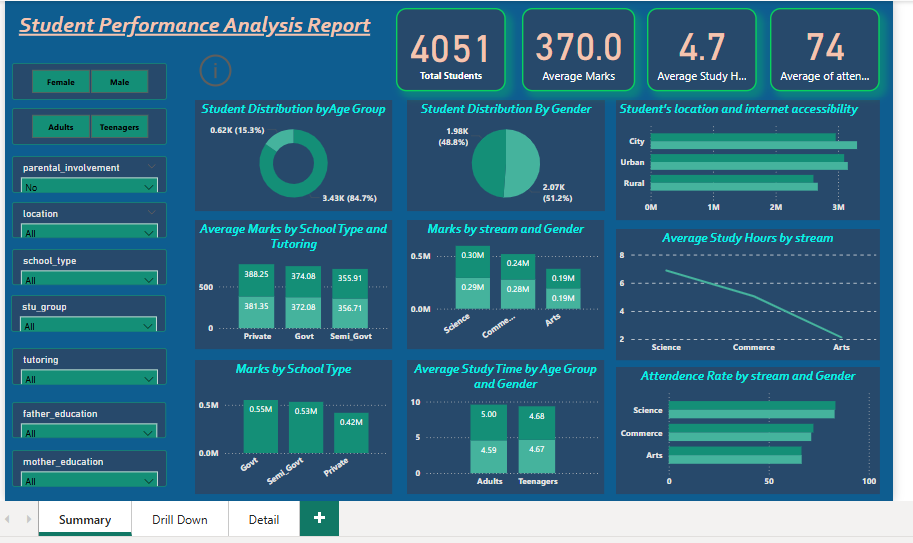

This screenshot's page, from the dashboard's own definition file:
{"tool":"powerbi","page":{"name":"Summary","canvas":[1280,720],"ordinal":0},"visuals":[{"type":"pieChart","title":"Student Distribution By Gender","fields":{"Category":["bd_students_per.gender"],"Y":["CountNonNull(bd_students_per.id)"]},"box":[578.9,142.6,285.1,159.8],"z":0},{"type":"columnChart","title":"Marks by stream and Gender","fields":{"Category":["bd_students_per.stu_group"],"Y":["Sum(bd_students_per.TotalMarks)"],"Series":["bd_students_per.gender"]},"box":[578.9,315.4,283.7,185.8],"z":1000},{"type":"donutChart","title":"Student Distribution byAge Group","fields":{"Category":["bd_students_per.Age Group"],"Y":["CountNonNull(bd_students_per.id)"]},"box":[273.6,142.6,283.7,159.8],"z":2000},{"type":"clusteredBarChart","title":"Attendence Rate by stream and Gender","fields":{"Category":["bd_students_per.stu_group"],"Series":["bd_students_per.gender"],"Y":["Avg(bd_students_per.attendance)"]},"box":[879.8,527,380.2,182.9],"z":3000},{"type":"columnChart","title":"Average Study Time by Age Group and Gender","fields":{"Category":["bd_students_per.Age Group"],"Y":["Avg(bd_students_per.studytime)"],"Series":["bd_students_per.gender"]},"box":[578.9,517,283.7,193],"z":4000},{"type":"columnChart","title":"Marks by School Type","fields":{"Y":["Sum(bd_students_per.TotalMarks)"],"Category":["bd_students_per.school_type"]},"box":[273.6,517,283.7,193],"z":5000},{"type":"lineChart","title":"Average Study Hours by stream","fields":{"Y":["bd_students_per.Avgstudyhours"],"Category":["bd_students_per.stu_group"]},"box":[879.8,328.3,380.2,188.6],"z":6000},{"type":"card","fields":{"Values":["CountNonNull(bd_students_per.id)"]},"box":[563,10.1,158.4,119.5],"z":7000},{"type":"clusteredBarChart","title":"Student''s location and internet accessibility","fields":{"Series":["bd_students_per.internet_access"],"Y":["Sum(bd_students_per.id)"],"Category":["bd_students_per.location"]},"box":[879.8,142.6,380.2,172.8],"z":8000},{"type":"columnChart","title":"Average Marks by School Type and Tutoring","fields":{"Y":["Avg(bd_students_per.TotalMarks)"],"Category":["bd_students_per.school_type"],"Series":["bd_students_per.tutoring"]},"box":[273.6,315.4,283.7,185.8],"z":9000},{"type":"card","fields":{"Values":["Avg(bd_students_per.TotalMarks)"]},"box":[744.5,10.1,162.7,119.5],"z":10000},{"type":"card","fields":{"Values":["Avg(bd_students_per.studytime)"]},"box":[924.5,10.1,158.4,119.5],"z":11000},{"type":"slicer","fields":{"Values":["bd_students_per.tutoring"]},"box":[10.1,499.7,223.2,53.3],"z":12000},{"type":"slicer","fields":{"Values":["bd_students_per.gender"]},"box":[10.1,89.3,223.2,53.3],"z":13000},{"type":"slicer","fields":{"Values":["bd_students_per.location"]},"box":[10.1,289.4,223.2,51.8],"z":14000},{"type":"slicer","fields":{"Values":["bd_students_per.school_type"]},"box":[10.1,357.1,223.2,51.8],"z":15000},{"type":"card","fields":{"Values":["Avg(bd_students_per.attendance)"]},"box":[1101.6,10.1,158.4,119.5],"z":16000},{"type":"textbox","box":[10.1,10.1,525.6,54.7],"z":17000},{"type":"slicer","fields":{"Values":["bd_students_per.stu_group"]},"box":[8.6,423.4,223.2,53.3],"z":18000},{"type":"slicer","fields":{"Values":["bd_students_per.Age Group"]},"box":[10.1,154.1,223.2,53.3],"z":19000},{"type":"slicer","fields":{"Values":["bd_students_per.father_education"]},"box":[10.1,577.4,221.8,51.8],"z":20000},{"type":"slicer","fields":{"Values":["bd_students_per.mother_education"]},"box":[10.1,646.6,223.2,53.3],"z":21000},{"type":"slicer","fields":{"Values":["bd_students_per.parental_involvement"]},"box":[10.1,223.2,223.2,53.3],"z":22000},{"type":"actionButton","title":"See More","box":[273.6,70.6,126.7,59],"z":23000}]}

Visuals, with their boxes on the page's 1280x720 design canvas (x1, y1, x2, y2). These are canvas units, not pixel positions in the 913x543 screenshot, which may show the page scaled, cropped or inside an application window:
"Student Distribution By Gender" pieChart: 579,143,864,302
"Marks by stream and Gender" columnChart: 579,315,863,501
"Student Distribution byAge Group" donutChart: 274,143,557,302
"Attendence Rate by stream and Gender" clusteredBarChart: 880,527,1260,710
"Average Study Time by Age Group and Gender" columnChart: 579,517,863,710
"Marks by School Type" columnChart: 274,517,557,710
"Average Study Hours by stream" lineChart: 880,328,1260,517
card - CountNonNull(bd_students_per.id): 563,10,721,130
"Student''s location and internet accessibility" clusteredBarChart: 880,143,1260,315
"Average Marks by School Type and Tutoring" columnChart: 274,315,557,501
card - Avg(bd_students_per.TotalMarks): 744,10,907,130
card - Avg(bd_students_per.studytime): 924,10,1083,130
slicer - bd_students_per.tutoring: 10,500,233,553
slicer - bd_students_per.gender: 10,89,233,143
slicer - bd_students_per.location: 10,289,233,341
slicer - bd_students_per.school_type: 10,357,233,409
card - Avg(bd_students_per.attendance): 1102,10,1260,130
textbox: 10,10,536,65
slicer - bd_students_per.stu_group: 9,423,232,477
slicer - bd_students_per.Age Group: 10,154,233,207
slicer - bd_students_per.father_education: 10,577,232,629
slicer - bd_students_per.mother_education: 10,647,233,700
slicer - bd_students_per.parental_involvement: 10,223,233,276
"See More" actionButton: 274,71,400,130
